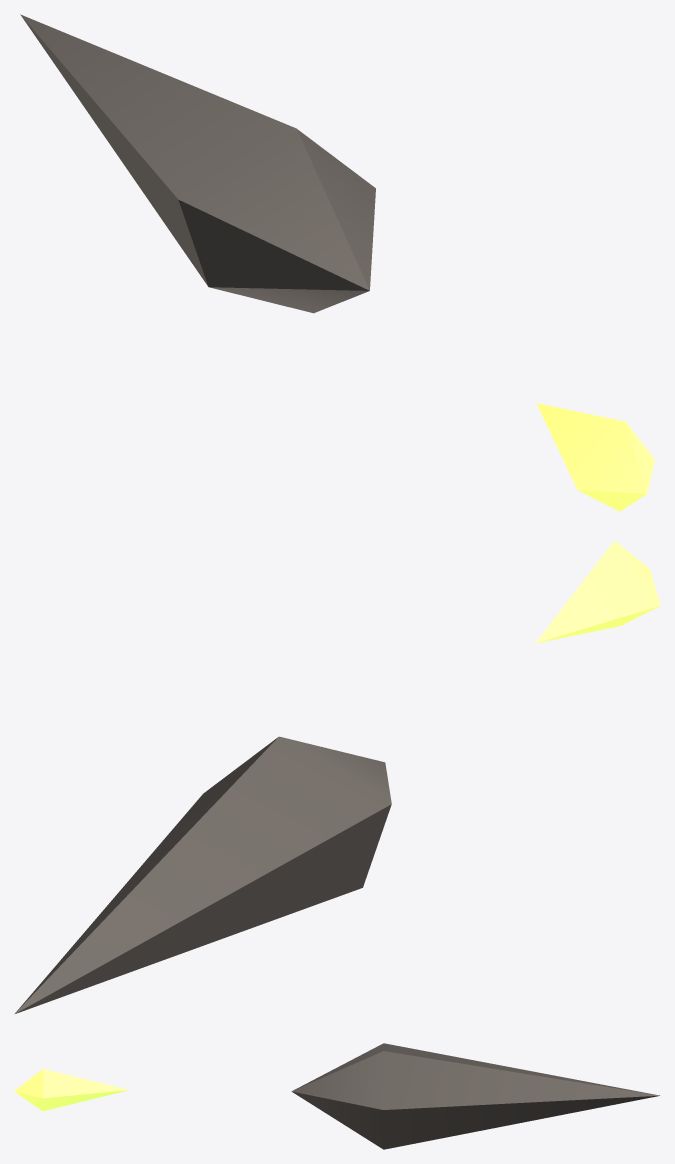
The model's file is proj_espinho_pedra.glb.
The picture shows the model from 3 angles, top to bottom: view 1: azimuth 30°, elevation 25°; view 2: azimuth 150°, elevation 25°; view 3: azimuth 270°, elevation 25°; orthographic projection. The views are drawn at different scales.
Parts seen in each view (by area): view 1: proj_espinho_pedra; view 2: proj_espinho_pedra; view 3: proj_espinho_pedra.
Boxes of the visible parts, x1,y1,x2,y2 form: proj_espinho_pedra: (20,14,654,511); proj_espinho_pedra: (14,540,660,1014); proj_espinho_pedra: (14,1043,659,1149).
Bounding box in the file's own units: 0.0989 × 0.0903 × 0.56.
